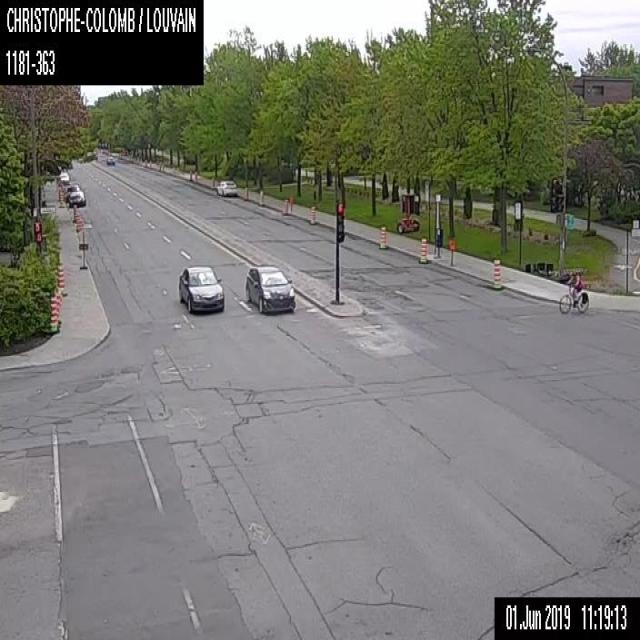construction: (396, 189, 418, 235), (78, 228, 88, 269), (47, 295, 57, 332), (56, 260, 66, 296), (491, 256, 501, 287), (54, 287, 60, 327), (419, 236, 427, 263), (378, 224, 386, 248), (448, 238, 454, 267), (310, 205, 316, 223), (77, 214, 82, 235), (281, 198, 287, 214), (72, 204, 76, 222), (74, 207, 78, 222), (59, 191, 63, 205), (210, 177, 215, 188), (259, 192, 263, 203), (244, 188, 247, 199), (187, 172, 191, 180)
cyclist: (558, 271, 589, 313)
vehicle: (242, 262, 294, 314), (177, 263, 224, 313), (216, 179, 236, 196), (68, 190, 82, 207), (73, 189, 86, 206), (64, 184, 76, 202), (58, 171, 68, 184), (104, 156, 116, 165)
